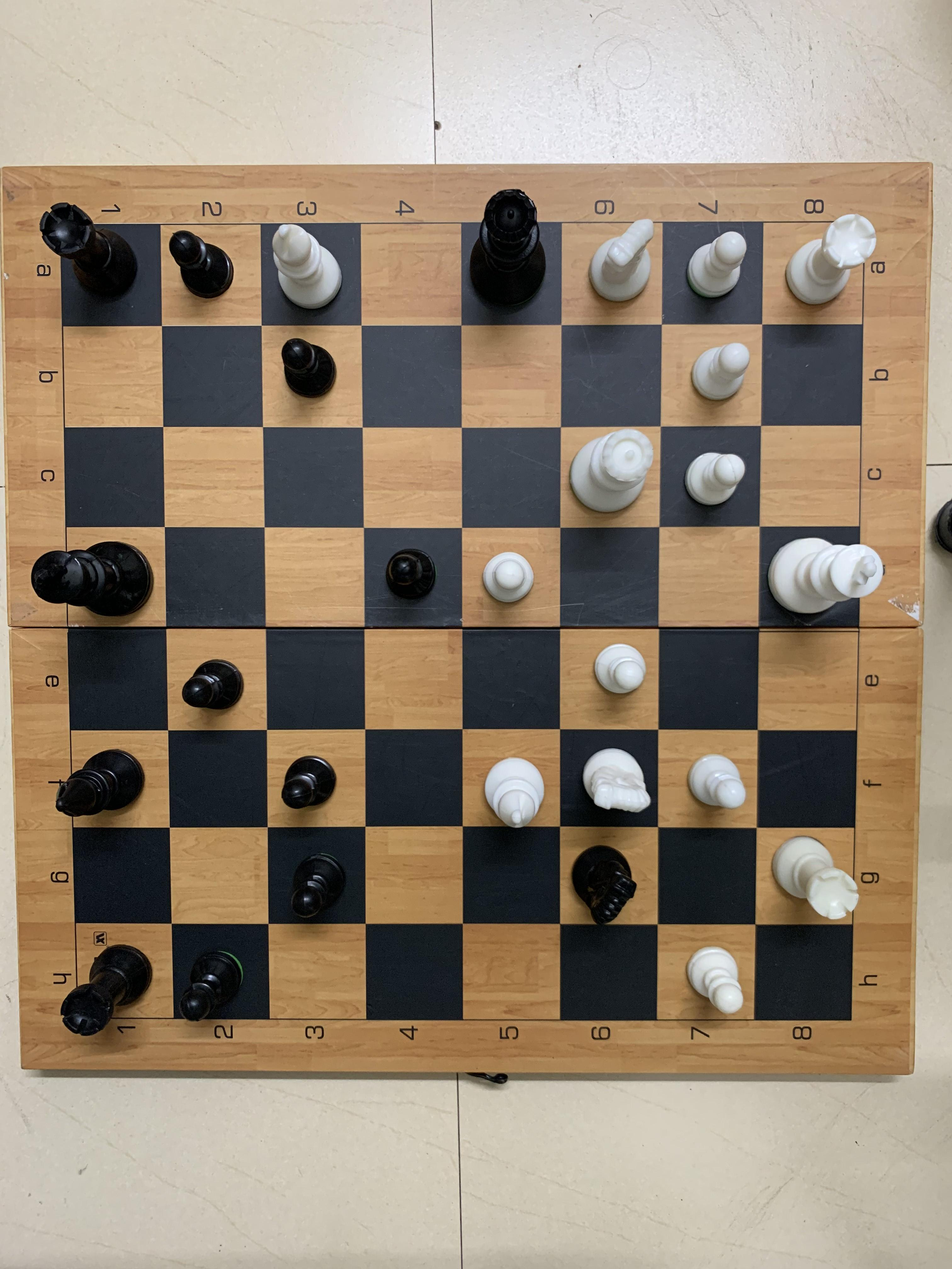black_bishop: (44, 737, 162, 837)
black_king: (22, 521, 157, 626)
black_knight: (562, 831, 660, 930)
black_pawn: (167, 933, 274, 1031), (157, 222, 256, 318), (167, 642, 260, 727), (264, 323, 354, 406), (274, 839, 354, 925), (370, 537, 445, 614), (279, 740, 351, 817)
black_queen: (464, 181, 561, 310)
black_rook: (32, 191, 156, 309), (52, 924, 169, 1041)
white_bishop: (464, 735, 564, 834), (258, 214, 356, 310)
white_king: (759, 526, 887, 625)
white_knight: (575, 222, 673, 319), (573, 732, 653, 829)
white_pawn: (469, 532, 564, 632), (677, 729, 760, 834), (664, 927, 756, 1018), (683, 221, 766, 314), (682, 329, 761, 422), (570, 638, 657, 718), (674, 441, 752, 514)
white_queen: (562, 419, 666, 536)
white_rook: (765, 820, 870, 927), (782, 208, 887, 312)
